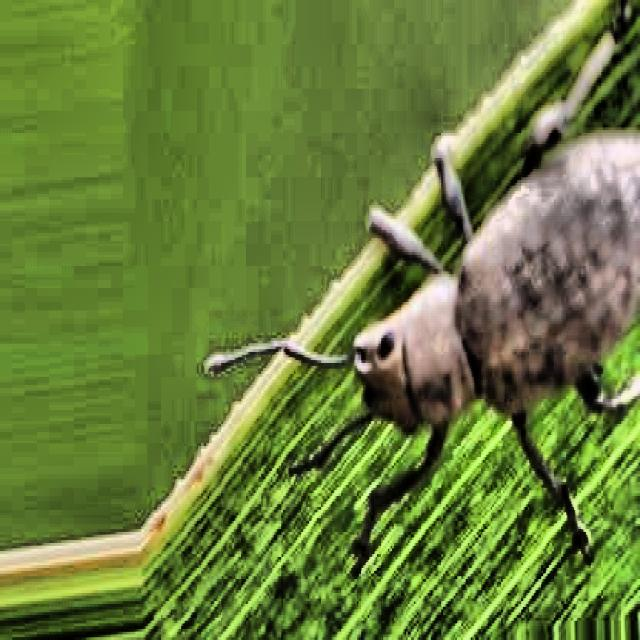Stink bug: (260, 76, 640, 482)
